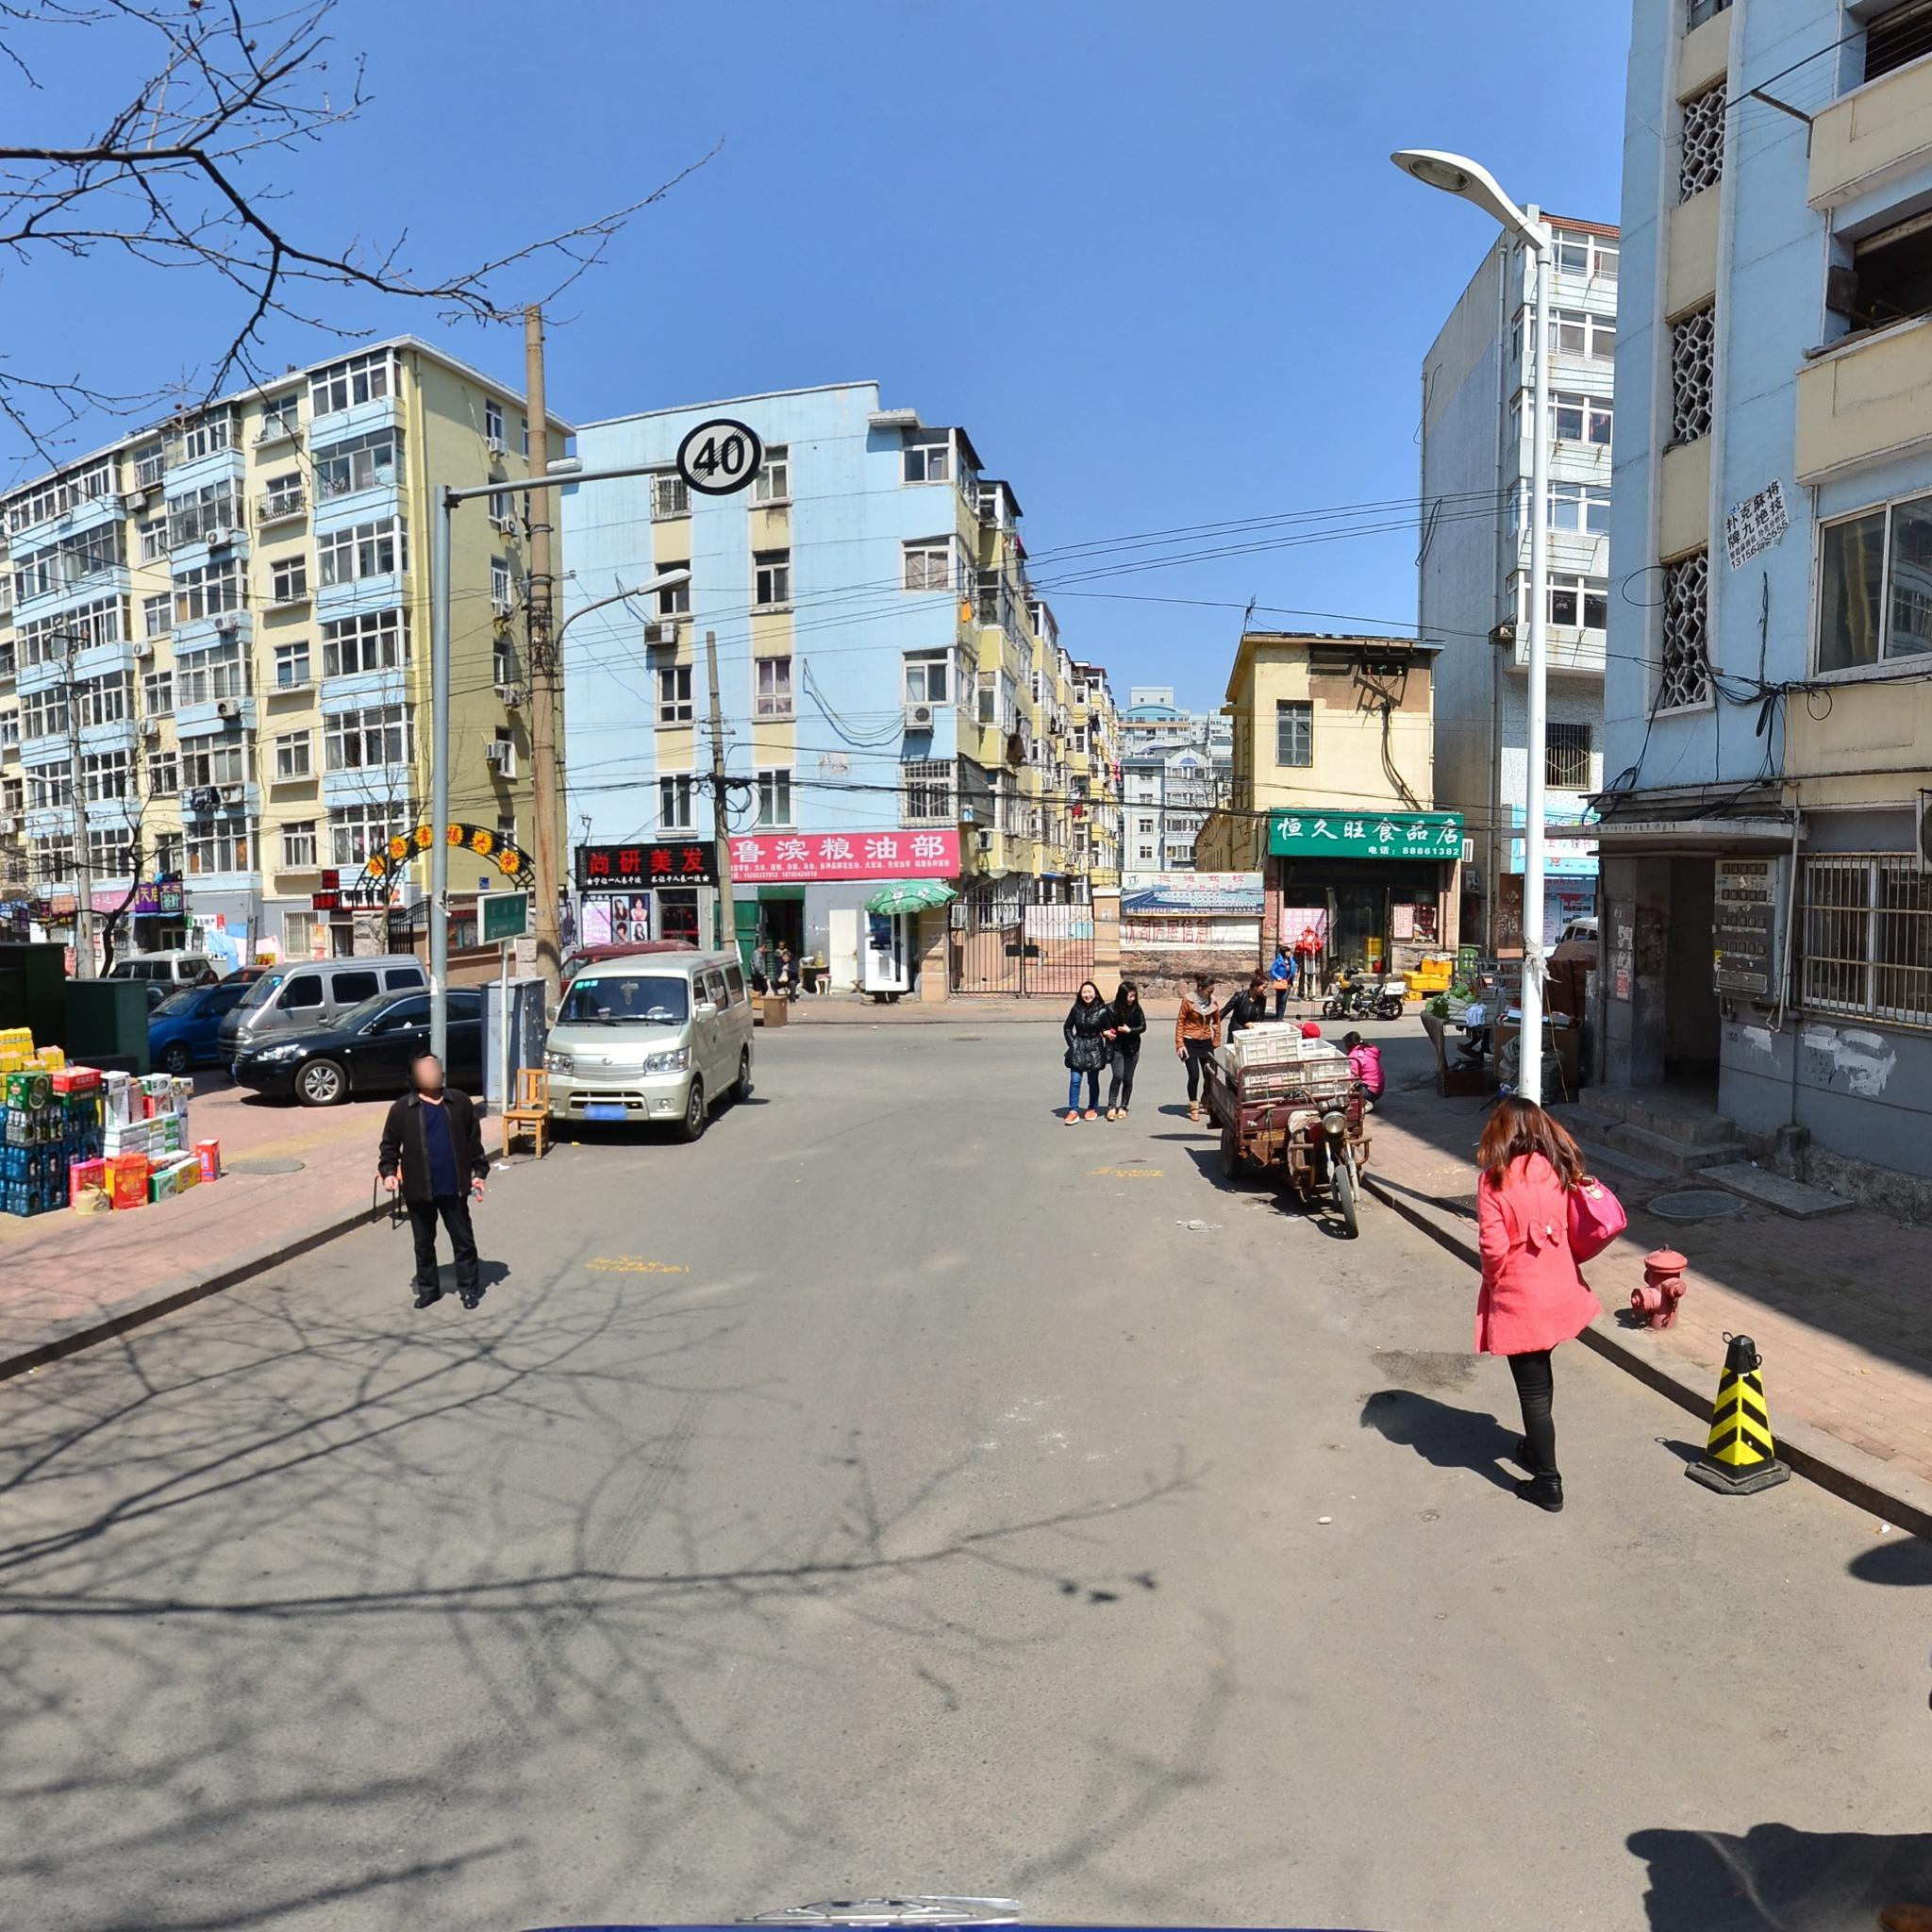pr40: (674, 418, 757, 492)
